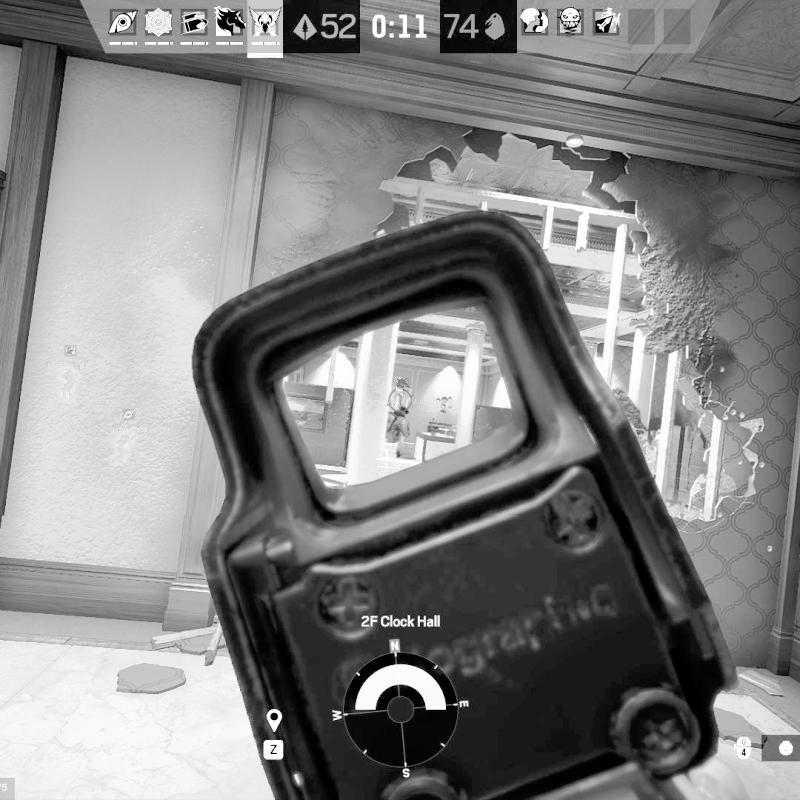Character: (384, 405, 412, 458)
Friend_label: (379, 376, 423, 407), (46, 343, 94, 370), (108, 409, 147, 434)
Head: (398, 405, 410, 417)
